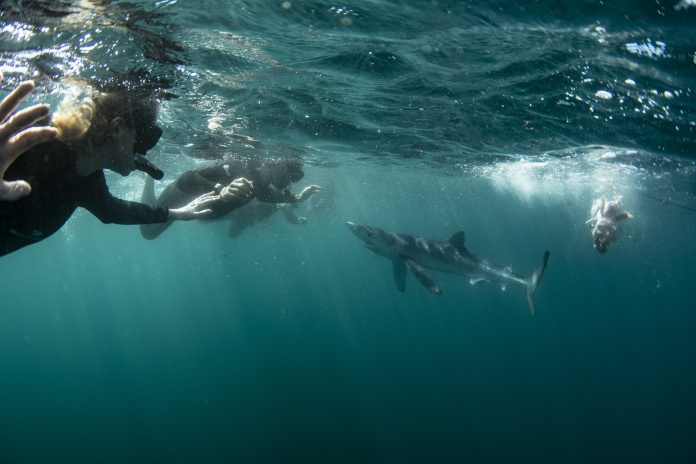Azul: (338, 210, 554, 321)
